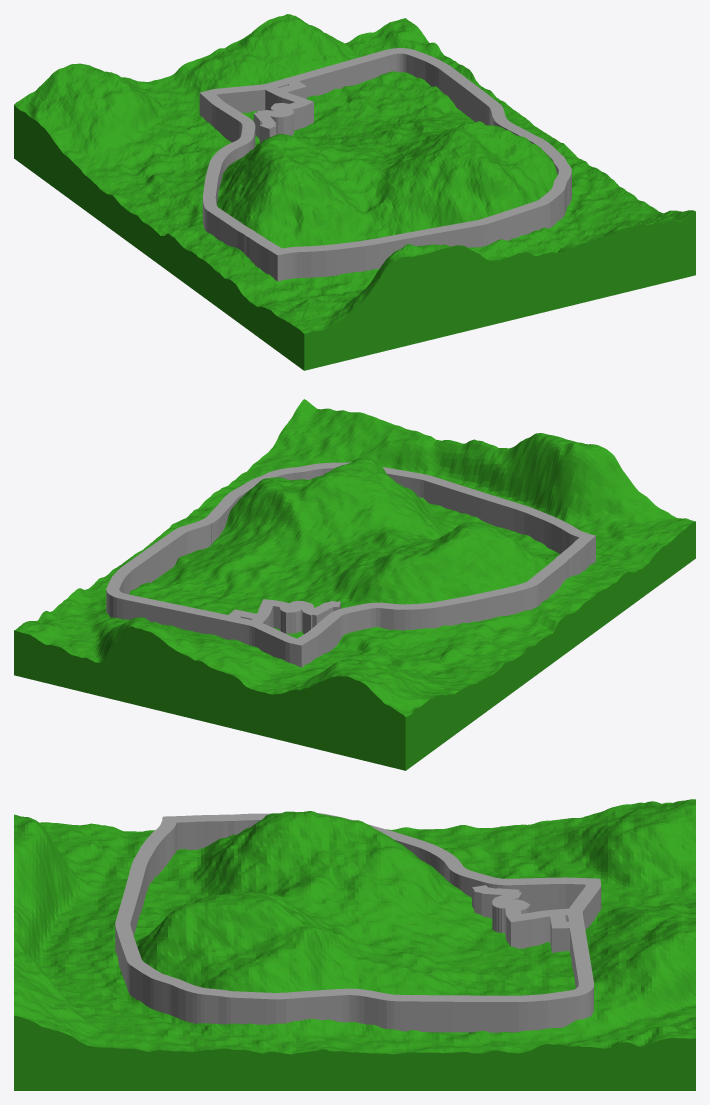
File: Racetrack.obj
The picture shows the model from 3 angles, top to bottom: view 1: azimuth 30°, elevation 25°; view 2: azimuth 150°, elevation 25°; view 3: azimuth 270°, elevation 25°; orthographic projection. The views are drawn at different scales.
Visible parts, largest first — view 1: Combined, Combined.001; view 2: Combined, Combined.001; view 3: Combined, Combined.001.
Boxes of the visible parts, x1=… form: Combined: x1=14, y1=14, x2=695, y2=370; Combined.001: x1=199, y1=48, x2=571, y2=281; Combined: x1=14, y1=399, x2=695, y2=770; Combined.001: x1=106, y1=462, x2=595, y2=667; Combined: x1=14, y1=799, x2=695, y2=1090; Combined.001: x1=115, y1=813, x2=601, y2=1032.
Bounding box in the file's own units: 70 × 16.73 × 89.79.
